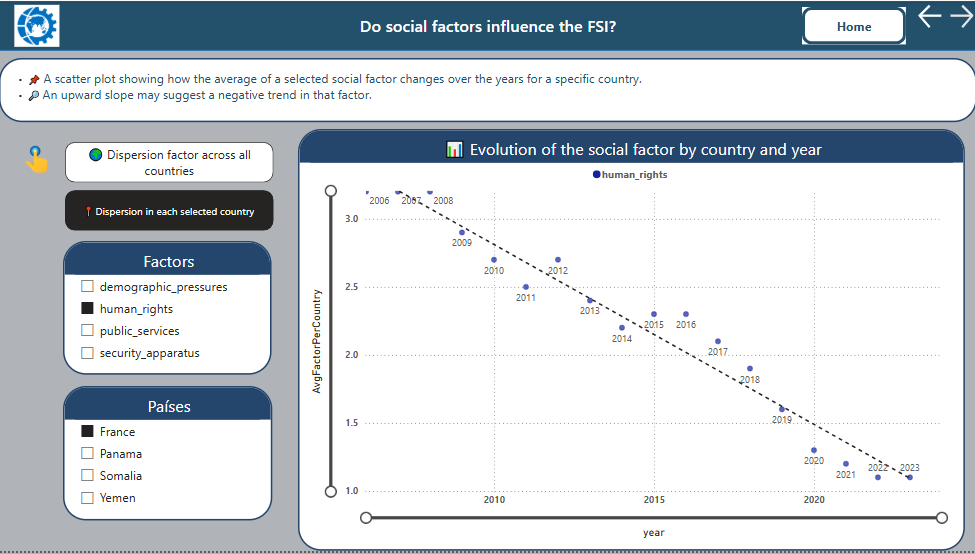

This screenshot's page, from the dashboard's own definition file:
{"tool":"powerbi","page":{"name":"Do social factors influence the FSI?","canvas":[1280,720],"ordinal":4},"visuals":[{"type":"scatterChart","title":"📊 Evolution of the social factor by country and year","fields":{"Series":["Selected_Factors.factor_name"],"Y":["Z_Table_Measures.AvgFactorPerCountry"],"X":["Z_Tabla_Calendario.year"]},"box":[391,167.8,873,552.2],"z":0},{"type":"slicer","title":"Países","fields":{"Values":["SelectedCountries.country"]},"box":[83.5,504,273.6,175.7],"z":2000},{"type":"textbox","title":"Relación entre Factores y FSI - Por país","box":[0,74,1280,84],"z":3000},{"type":"slicer","title":"Factors","fields":{"Values":["Selected_Factors.factor_name"]},"box":[83.5,313.9,273,175],"z":5000},{"type":"shape","box":[0,0,1280.2,64.8],"z":6000},{"type":"image","box":[18.7,184.3,67.7,49],"z":7000},{"type":"image","box":[13.4,0,72.9,65.5],"z":8000},{"type":"actionButton","box":[1199.2,0,40.4,40.4],"z":9000},{"type":"actionButton","box":[1239.6,0,40.4,40.4],"z":10000},{"type":"bookmarkNavigator","box":[86.4,184.3,273.6,116.6],"z":11000},{"type":"actionButton","title":"Portada","box":[1051.5,8.4,136.1,48.7],"z":12000}]}

Visuals, with their boxes in screenshot pixels (x1, y1, x2, y2), scaled from the page's 1280x720 canvas onto the 975x554 screenshot:
"📊 Evolution of the social factor by country and year" scatterChart: 298,129,963,553
"Países" slicer: 64,388,272,523
"Relación entre Factores y FSI - Por país" textbox: 0,57,974,122
"Factors" slicer: 64,242,272,376
shape: 0,0,974,50
image: 14,142,66,180
image: 10,0,66,50
actionButton: 913,0,944,31
actionButton: 944,0,974,31
bookmarkNavigator: 66,142,274,232
"Portada" actionButton: 801,6,905,44
